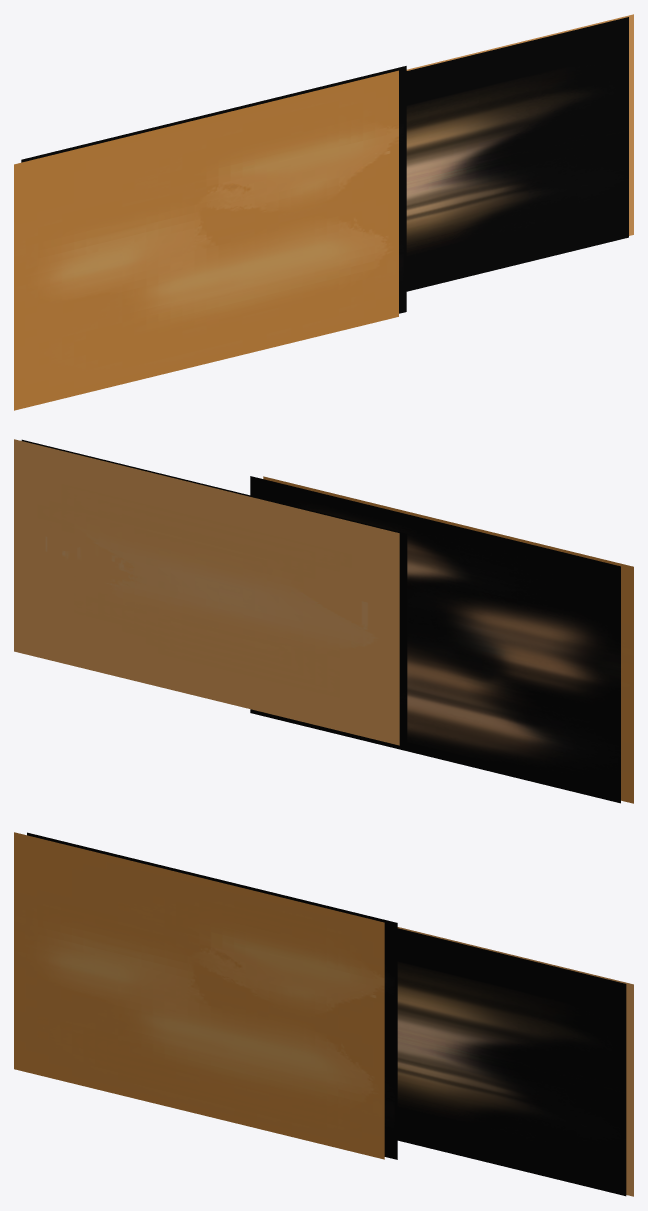
Rendered from pref_fxui_generalhotshop_banner_03.fbx.
3 renders of one model, top to bottom at view 1: azimuth 30°, elevation 25°; view 2: azimuth 150°, elevation 25°; view 3: azimuth 330°, elevation 25°, orthographic. The views are drawn at different scales.
Visible parts, largest first — view 1: noise_02_1, noise_01, noise_02, noise_01_1; view 2: noise_01_1, noise_02, noise_02_1, noise_01; view 3: noise_02_1, noise_01, noise_02, noise_01_1.
Boxes of the visible parts, x1=… form: noise_02_1: x1=14, y1=70, x2=398, y2=410; noise_01: x1=406, y1=17, x2=628, y2=291; noise_02: x1=21, y1=66, x2=406, y2=313; noise_01_1: x1=406, y1=14, x2=633, y2=235; noise_01_1: x1=14, y1=439, x2=399, y2=745; noise_02: x1=250, y1=476, x2=620, y2=803; noise_02_1: x1=263, y1=476, x2=633, y2=803; noise_01: x1=21, y1=439, x2=407, y2=745; noise_02_1: x1=14, y1=832, x2=384, y2=1159; noise_01: x1=397, y1=928, x2=626, y2=1196; noise_02: x1=27, y1=832, x2=397, y2=1159; noise_01_1: x1=397, y1=927, x2=633, y2=1196.
Size of the model in its own units: 970 by 361 by 32.
